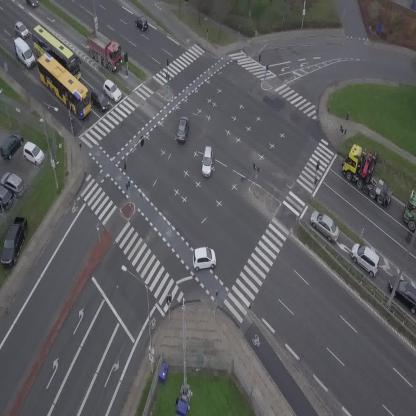bicycle: (68, 117, 75, 132)
bus: (28, 49, 100, 120), (22, 23, 90, 85)
car: (345, 239, 387, 279), (304, 207, 345, 244), (189, 244, 219, 273), (86, 86, 114, 113), (99, 78, 125, 103), (175, 116, 191, 142), (12, 20, 31, 41), (201, 146, 213, 178), (131, 14, 151, 33), (25, 0, 38, 8)
lorry: (334, 137, 398, 217), (78, 27, 130, 75), (8, 35, 39, 72), (403, 190, 416, 231)
